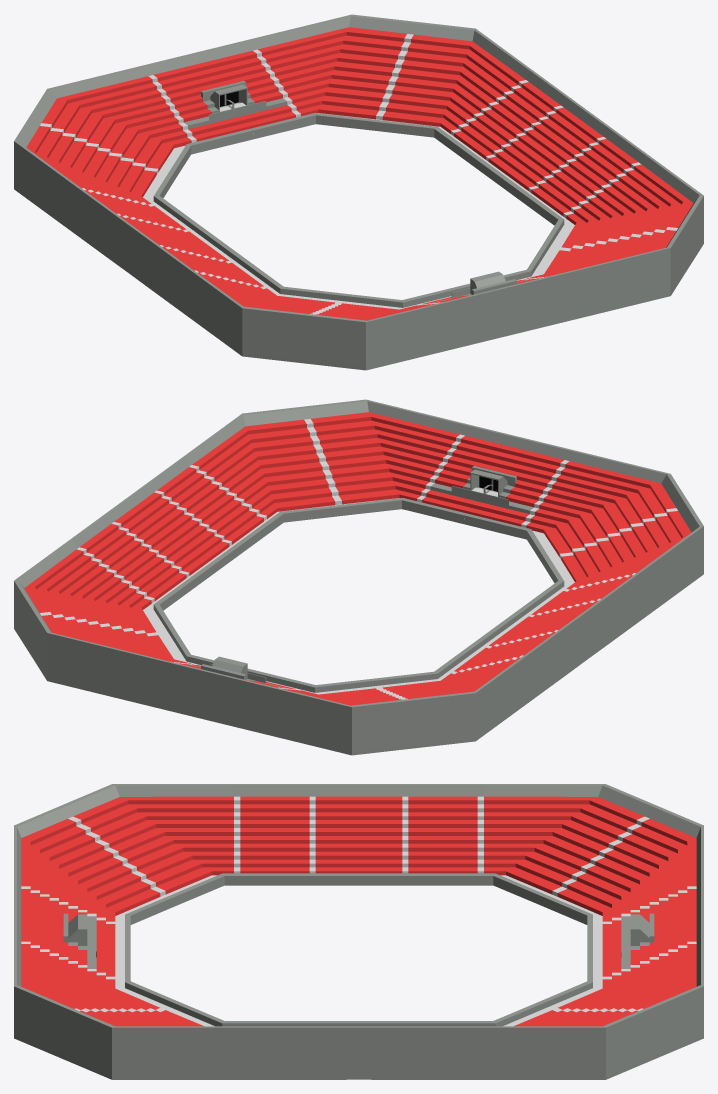
File: Estadio Octagonal.fbx
The picture shows the model from 3 angles, top to bottom: view 1: azimuth 30°, elevation 25°; view 2: azimuth 150°, elevation 25°; view 3: azimuth 270°, elevation 25°; orthographic projection. The views are drawn at different scales.
Visible parts, largest first — view 1: Estadio Simples Octagonal; view 2: Estadio Simples Octagonal; view 3: Estadio Simples Octagonal.
Part boxes in pixels (bbox=[...]): Estadio Simples Octagonal: bbox=[14, 14, 703, 370]; Estadio Simples Octagonal: bbox=[14, 399, 703, 755]; Estadio Simples Octagonal: bbox=[14, 784, 703, 1079].
Size of the model in its own units: 21377 by 2132 by 25577.
